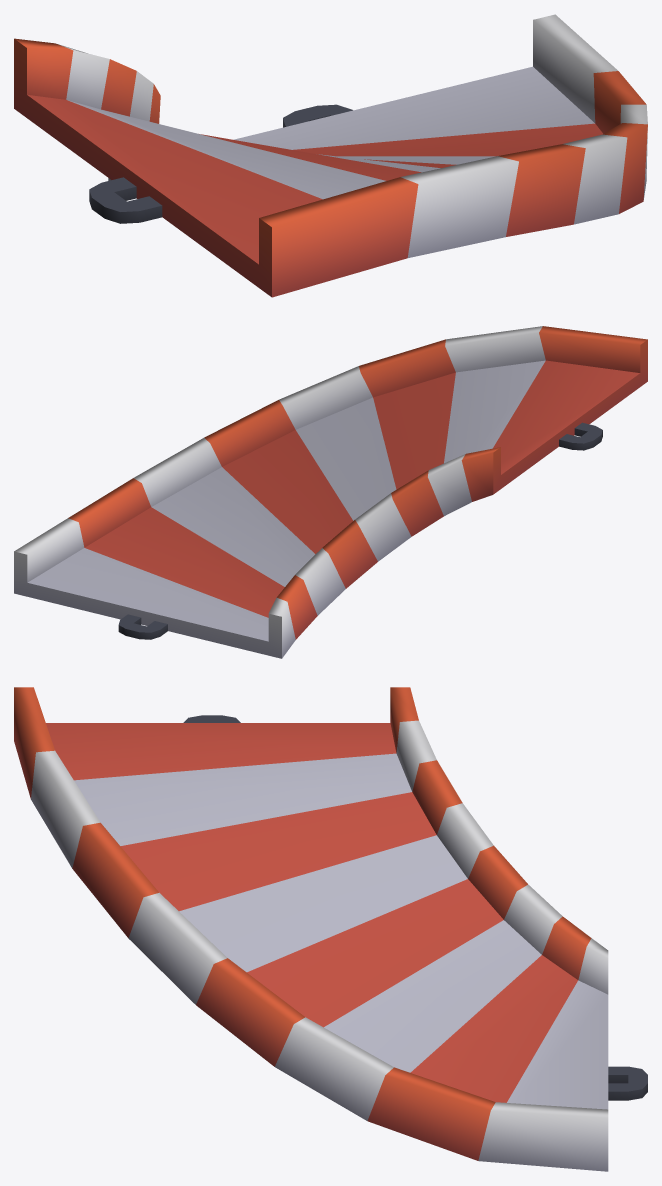
Rendered from track-striped-wide-corner-small-ramp.glb.
The picture shows the model from 3 angles, top to bottom: view 1: azimuth 30°, elevation 25°; view 2: azimuth 150°, elevation 25°; view 3: azimuth 270°, elevation 25°; orthographic projection. The views are drawn at different scales.
Visible parts, largest first — view 1: track-striped-wide-corner-small-ramp; view 2: track-striped-wide-corner-small-ramp; view 3: track-striped-wide-corner-small-ramp.
Part boxes in pixels (x1,y1,x2,y2): track-striped-wide-corner-small-ramp: [14, 14, 647, 297]; track-striped-wide-corner-small-ramp: [14, 326, 647, 658]; track-striped-wide-corner-small-ramp: [14, 687, 647, 1171].
Size of the model in its own units: 3.2 by 1.3 by 3.2.
